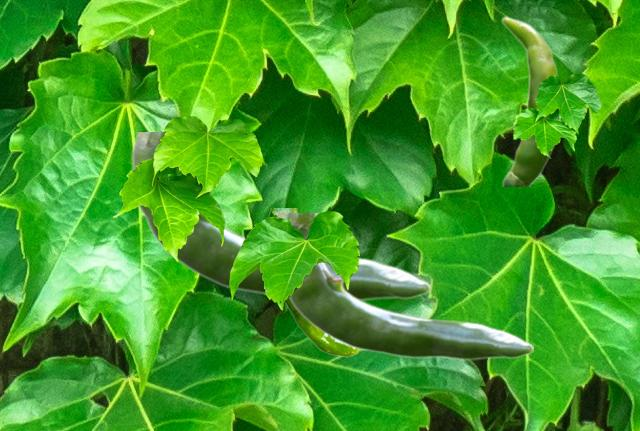green_chili: (131, 132, 429, 300), (274, 213, 532, 359), (268, 208, 358, 356), (500, 15, 559, 185)
